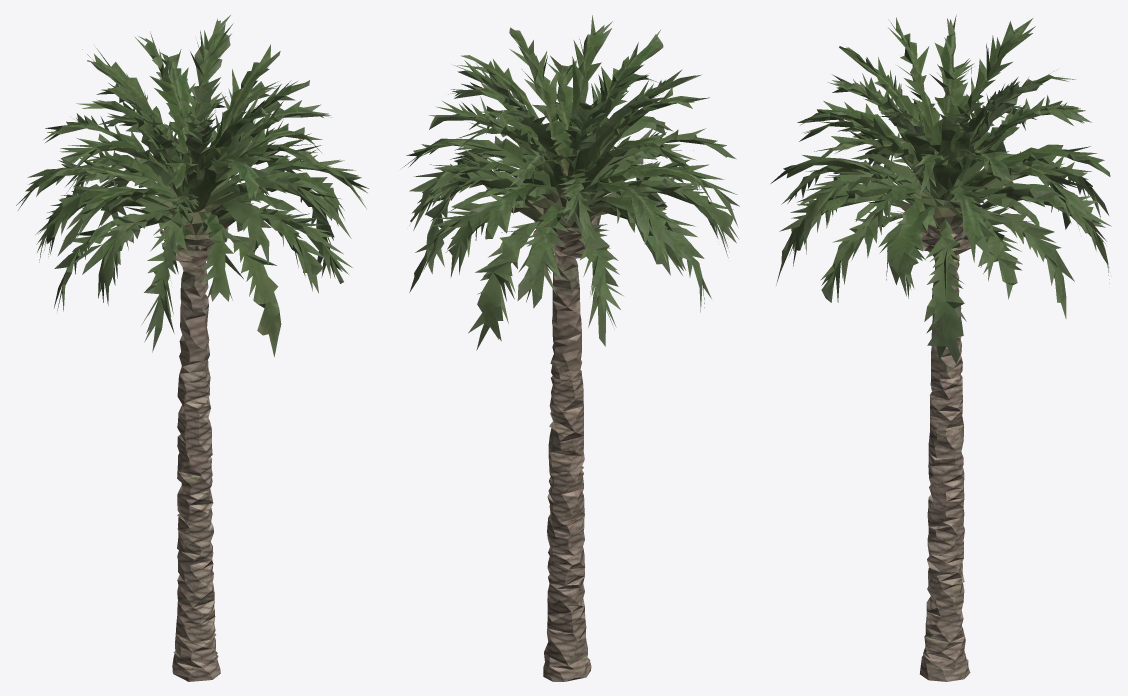
File: palm_tree.glb
3 views of the same model, side by side, from view 1: azimuth 30°, elevation 25°; view 2: azimuth 150°, elevation 25°; view 3: azimuth 270°, elevation 25° (orthographic).
Visible parts, largest first — view 1: Mesh_0; view 2: Mesh_0; view 3: Mesh_0.
Part boxes in pixels (box(x1,y1,x2,y2)): Mesh_0: box(16, 15, 368, 681); Mesh_0: box(401, 15, 739, 681); Mesh_0: box(770, 15, 1111, 681).
Bounding box in the file's own units: 4.06 × 8 × 4.02.
Materials: 1 (1 with a texture image).
